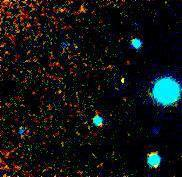star: (107, 68, 137, 98)
